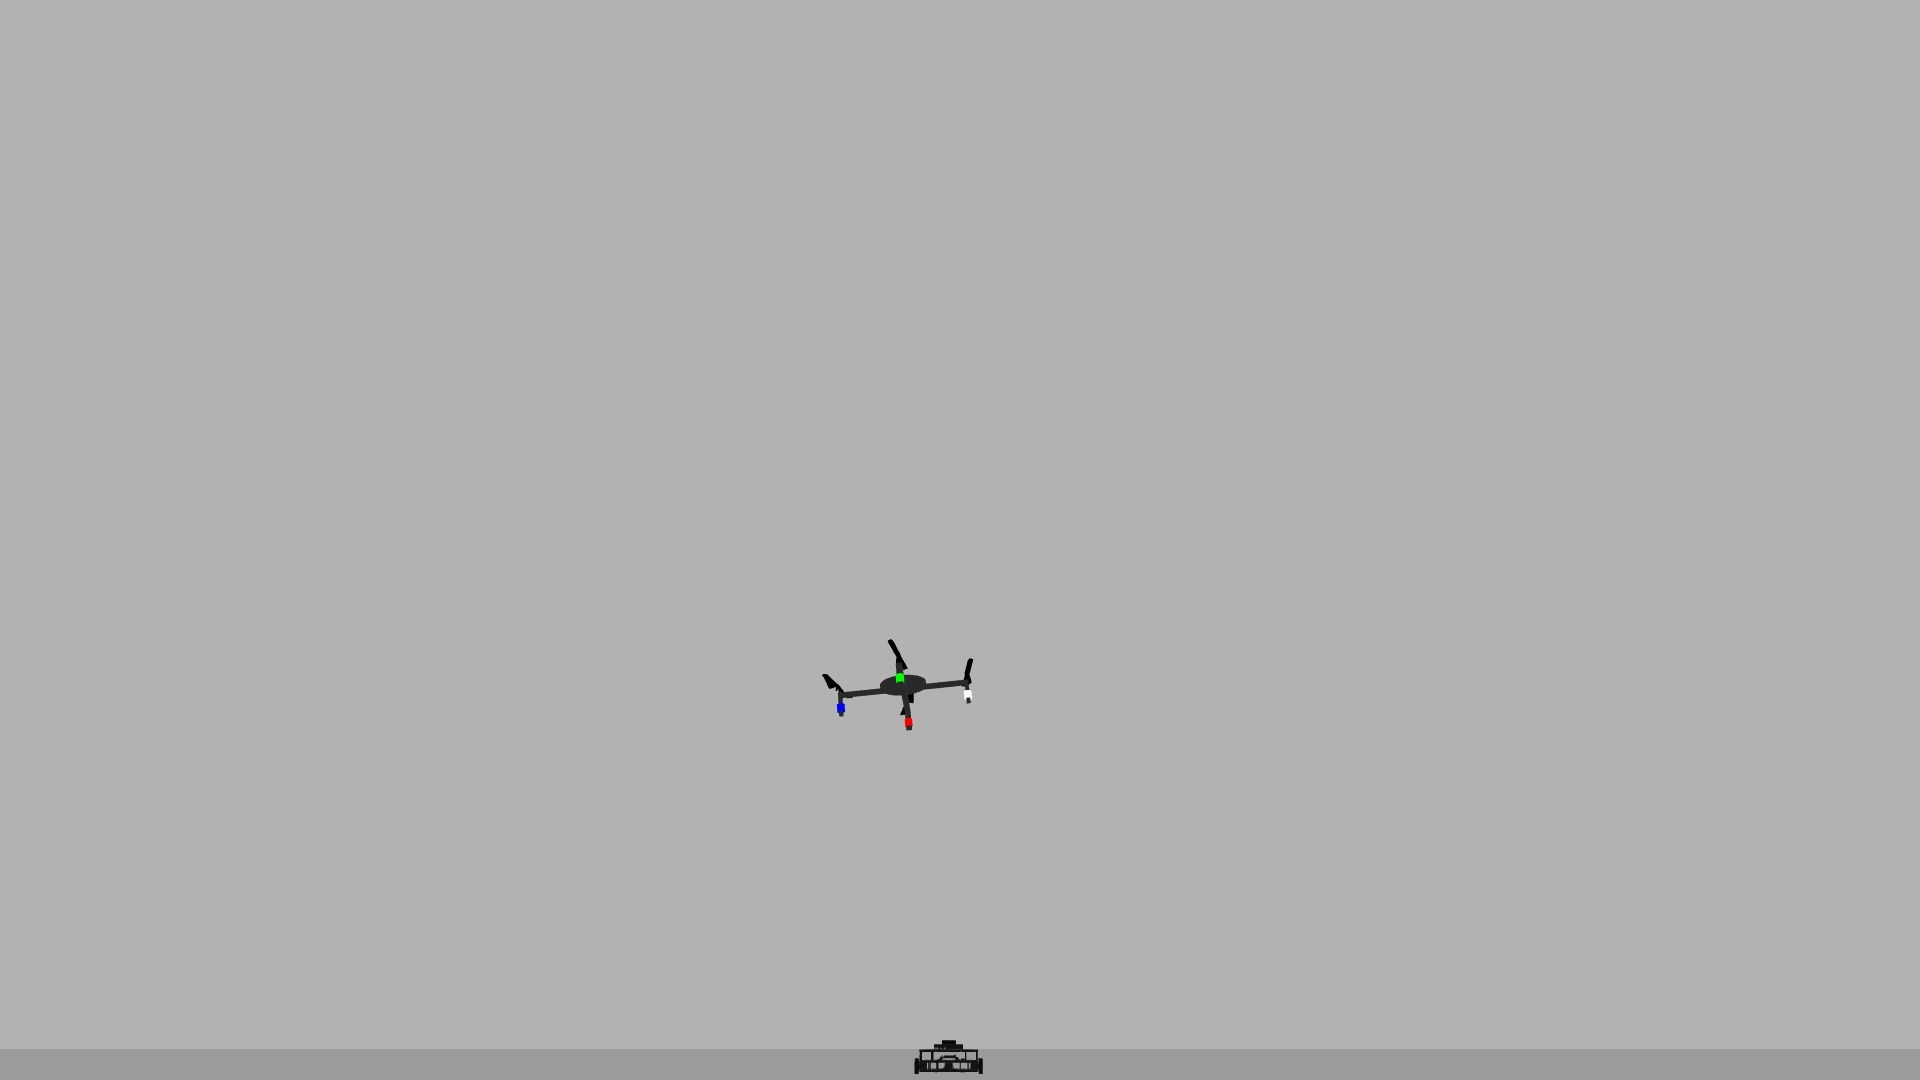drone: (806, 618, 996, 756)
